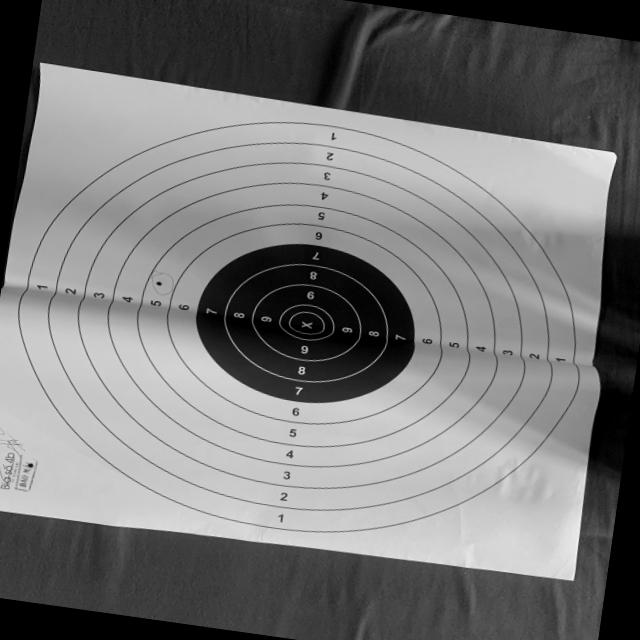bullet: (156, 281, 163, 285), (29, 463, 34, 468)
target: (0, 63, 617, 580)
